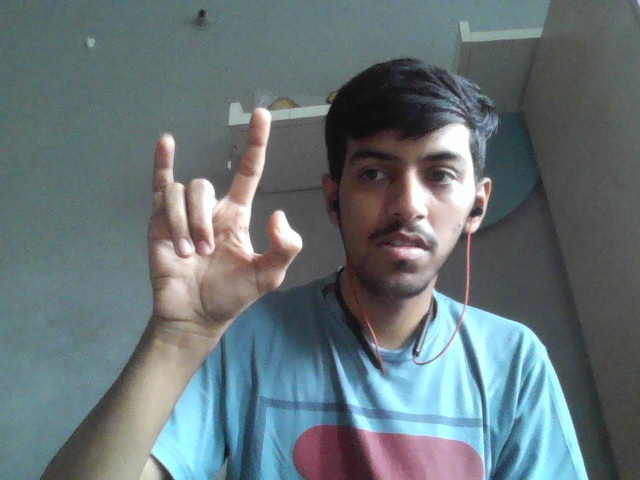I Love You: (137, 106, 306, 320)
